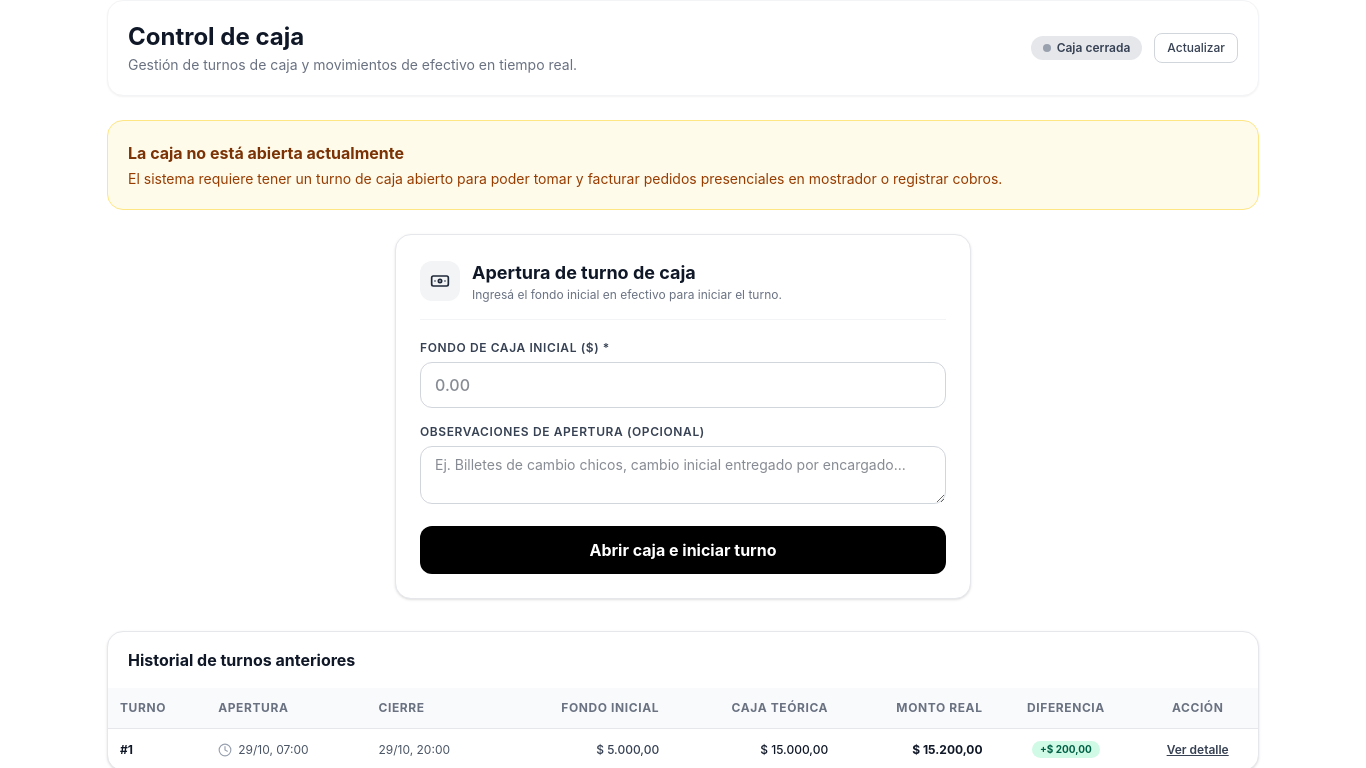
Test case: ControlCajaView › permite ver el detalle de un turno en el historial
Check: the heading "Historial de turnos anteriores" is shown, box [128, 650, 355, 670]
Click the button "Ver detalle" at x=1198, y=750, box [1167, 742, 1229, 758]
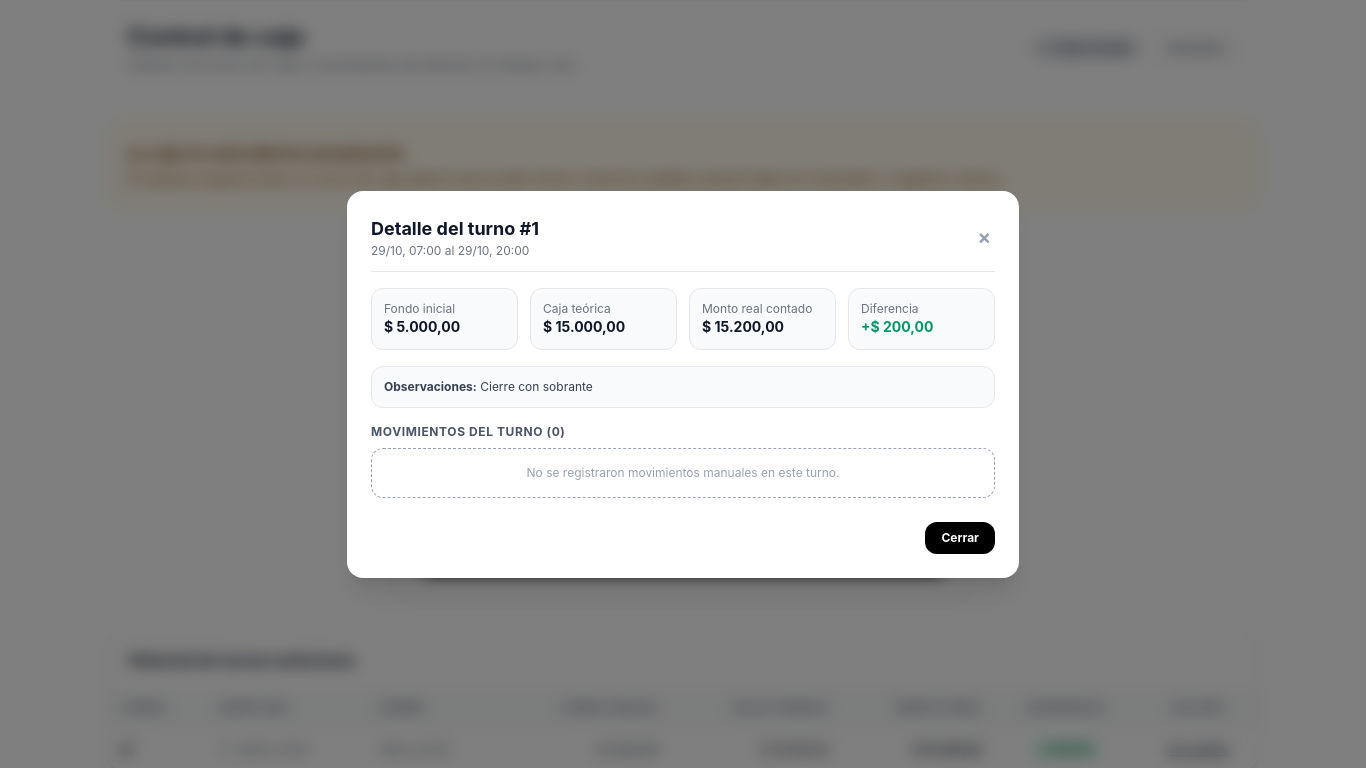
Check: the heading "Detalle del turno #1" is shown, box [371, 214, 539, 242]
Note: Cerrar modal
Click the button "Cerrar" at x=960, y=538, box [925, 522, 995, 554]
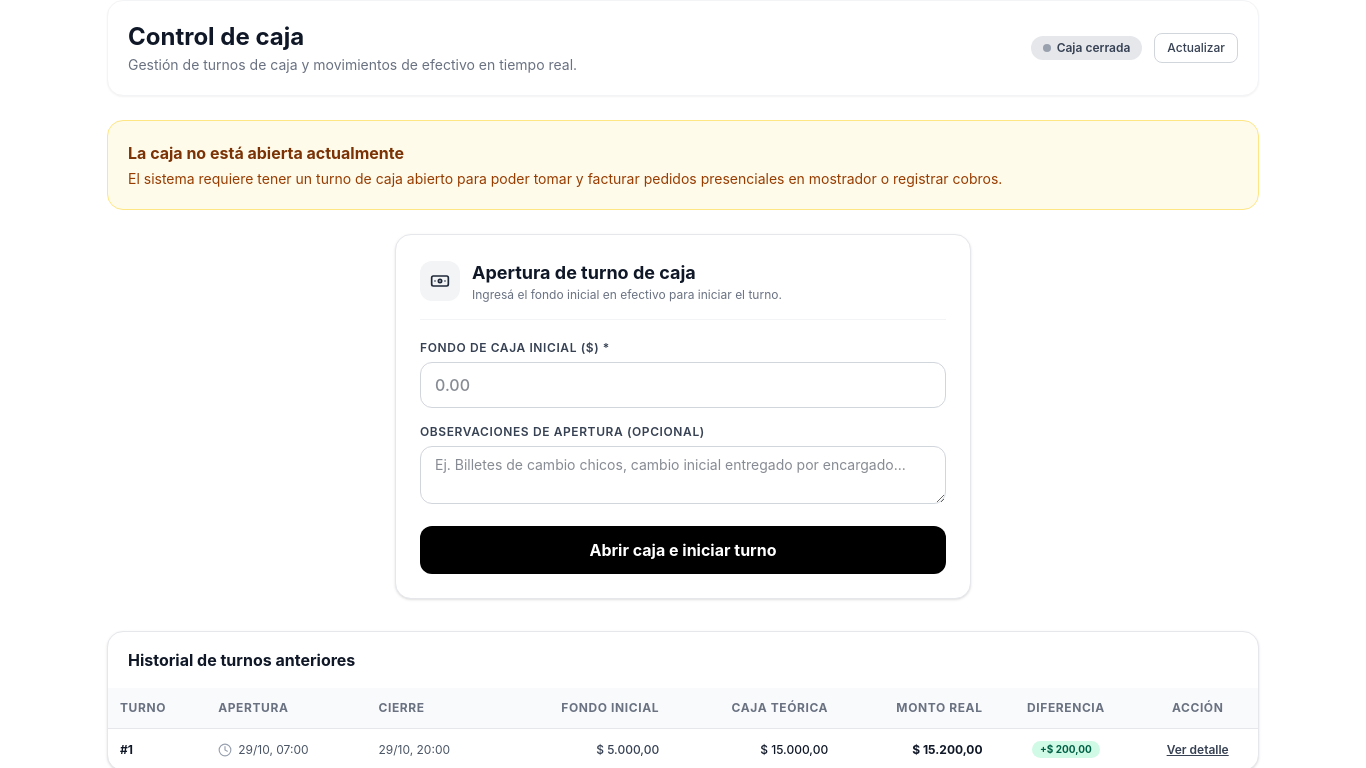
Check: the heading "Detalle del turno #1" is gone
